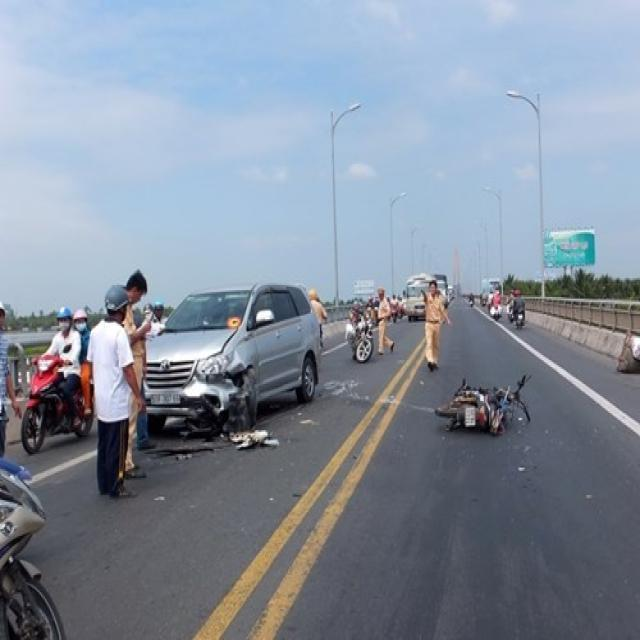accident: (154, 337, 278, 479), (437, 352, 551, 460)
